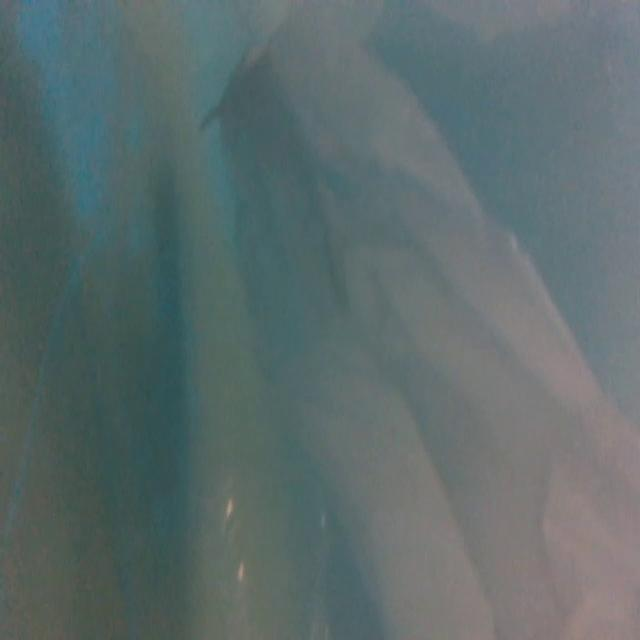plastic bags: (198, 17, 640, 640)
